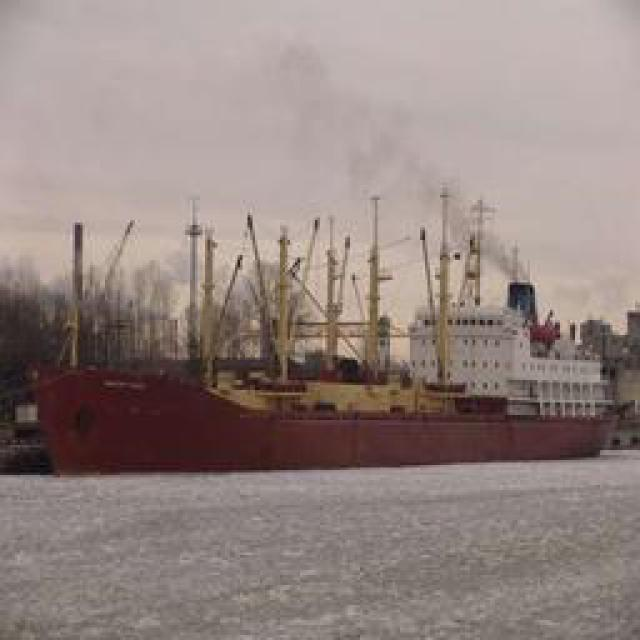Ship: (19, 279, 634, 479)
